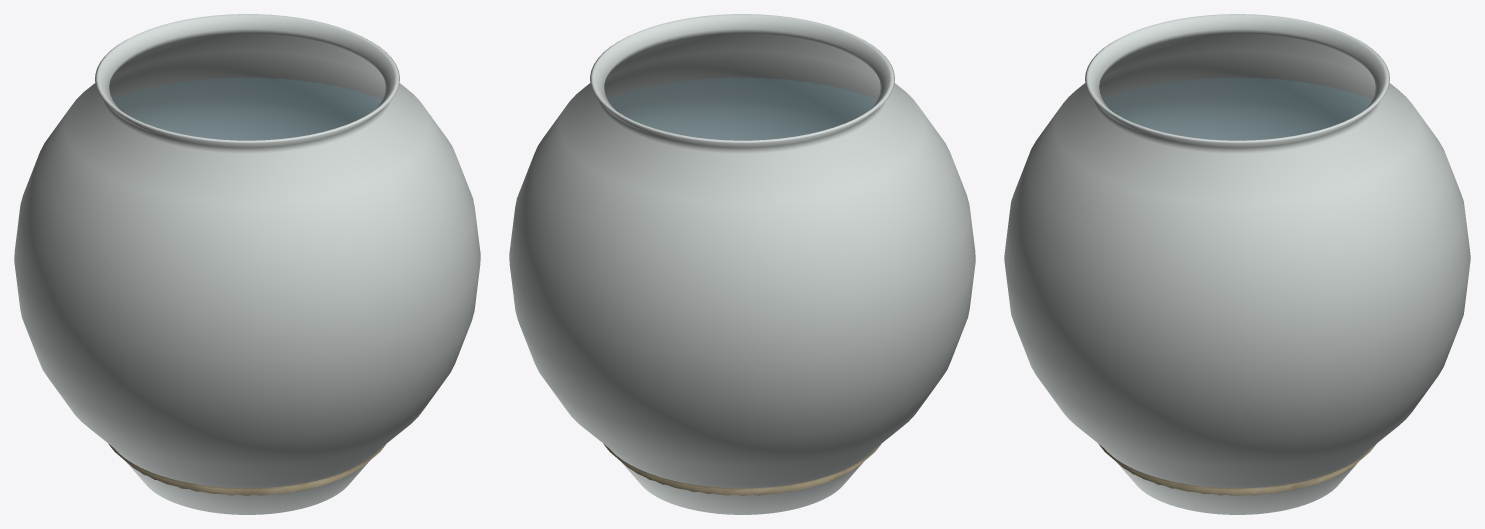
The model's file is one-goldfish.glb.
3 views of the same model, side by side, from view 1: azimuth 30°, elevation 25°; view 2: azimuth 150°, elevation 25°; view 3: azimuth 270°, elevation 25° (orthographic).
Parts seen in each view (by area): view 1: bowl_glass, water, gravel; view 2: bowl_glass, water, gravel; view 3: bowl_glass, water, gravel.
Boxes of the visible parts, <box> form: bowl_glass: <box>14,14,480,514</box>; water: <box>112,77,381,140</box>; gravel: <box>108,444,386,495</box>; bowl_glass: <box>509,14,975,514</box>; water: <box>608,77,877,140</box>; gravel: <box>603,444,881,495</box>; bowl_glass: <box>1004,14,1470,514</box>; water: <box>1103,77,1371,140</box>; gravel: <box>1098,444,1376,495</box>.
Size of the model in its own units: 0.26 by 0.2411 by 0.26.
Materials: 5 (3 with a texture image).
